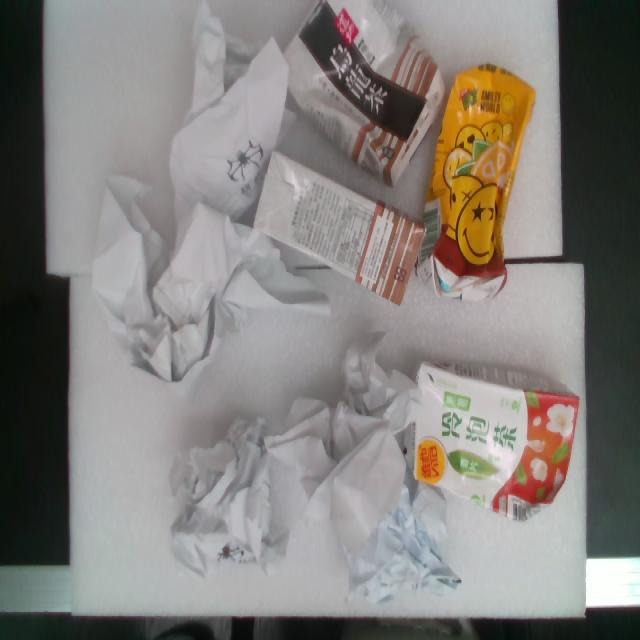juicebox: (223, 0, 461, 204), (395, 45, 568, 323), (215, 124, 458, 321), (388, 351, 604, 545)
paper: (0, 0, 369, 438), (136, 388, 421, 622), (301, 329, 491, 622)
